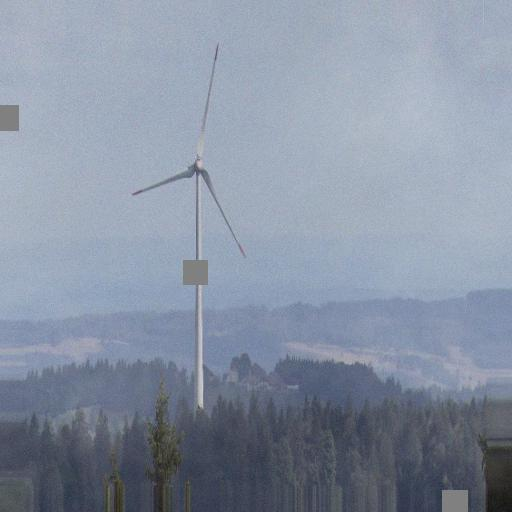wind turbine: (129, 42, 249, 414)
